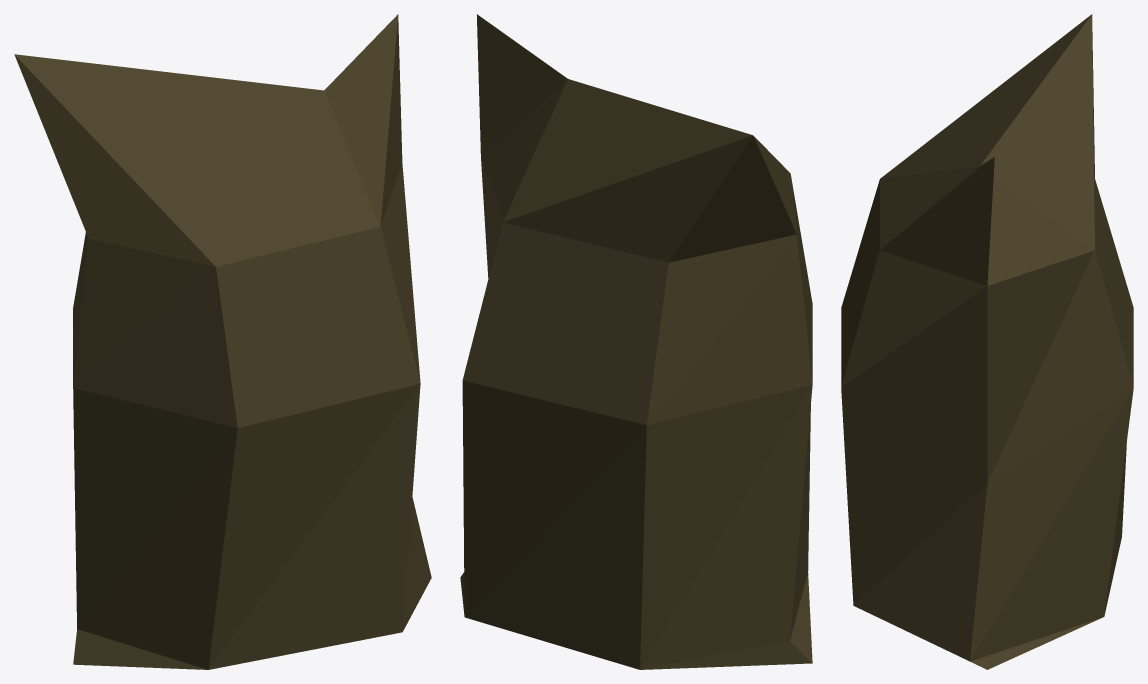
Rendered from OC_SACK_V03.OBJ.
3 renders of one model, left to right at view 1: azimuth 30°, elevation 25°; view 2: azimuth 150°, elevation 25°; view 3: azimuth 270°, elevation 25°, orthographic. The views are drawn at different scales.
Visible parts, largest first — view 1: OC_SACK_V03; view 2: OC_SACK_V03; view 3: OC_SACK_V03.
Part boxes in pixels (left/top/right/bottom): OC_SACK_V03: left=14, top=14, right=431, bottom=669; OC_SACK_V03: left=460, top=14, right=812, bottom=669; OC_SACK_V03: left=841, top=14, right=1133, bottom=669.
Size of the model in its own units: 0.5485 by 0.8504 by 0.4472.
